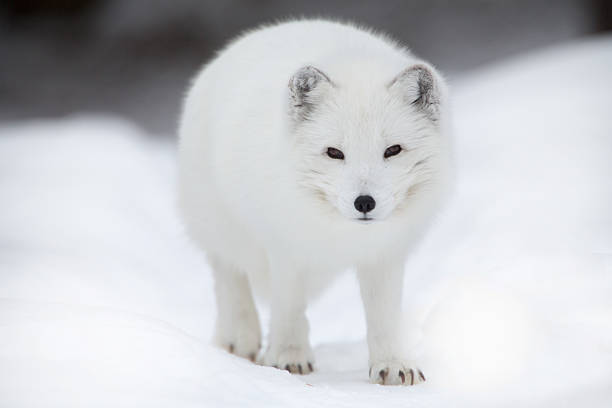arcticfox: (293, 83, 424, 246)
